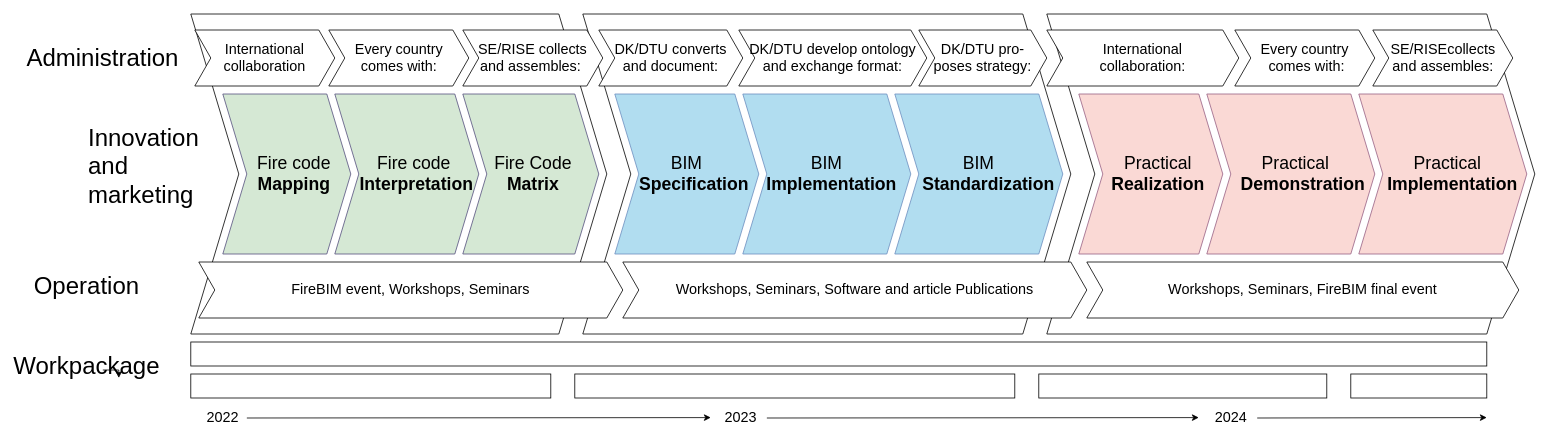
Some shapes in this 1549 by 444 pixel diagram are drawn without their labels. The shapes that lost their labels are listed below. From the top down, each one's box as (x1, y1, x2, y2) in pixels, then its label:
(190, 341, 1487, 366): WP 1
(190, 373, 551, 398): WP 2
(574, 373, 1015, 398): WP 3
(1038, 373, 1327, 398): WP 4
(1350, 373, 1487, 398): WP 5
